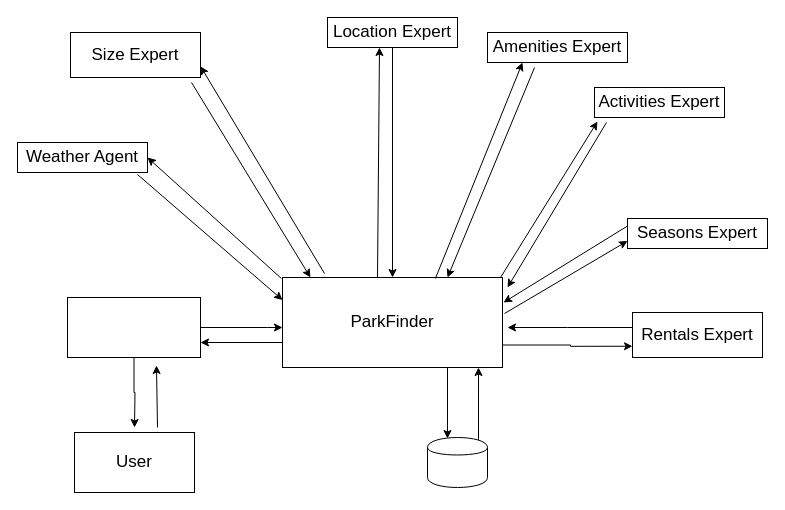
Image size: 785x510. Some labels were removed from this diagram. Here are the shapes that lost their labels. From the top down, the box of each, then its label:
(66, 296, 200, 358): GUI
(426, 436, 488, 488): DB
